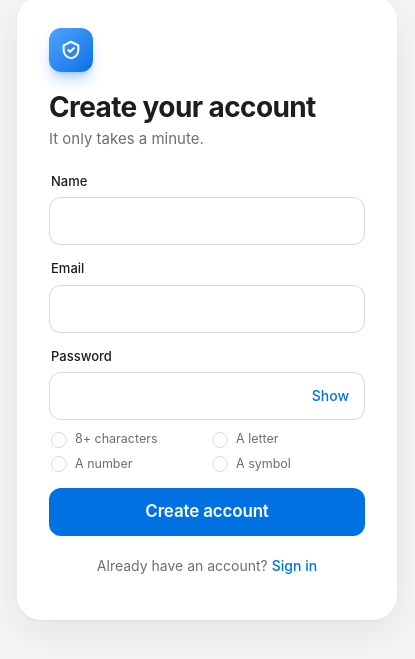
Test: SignUpPage: server errors › 409 puts the message on the email field, keeps values and focuses the email
The width and height of the screenshot is (415, 659).
Type "  Ada  " into the field labelled "Name" at (207, 221), box [49,197,365,245]
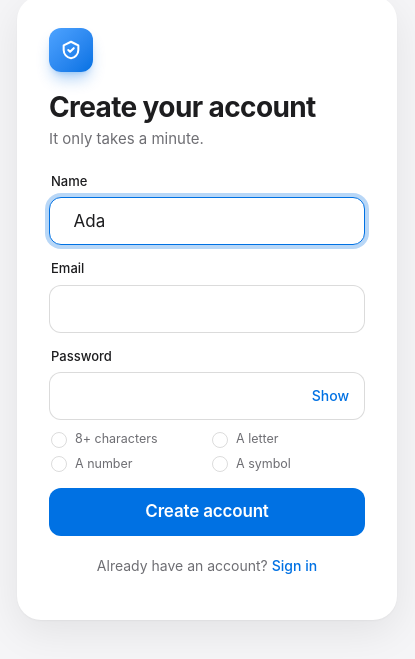
Type "Ada@Example.com" into the field labelled "Email" at (207, 309), box [49,285,365,333]
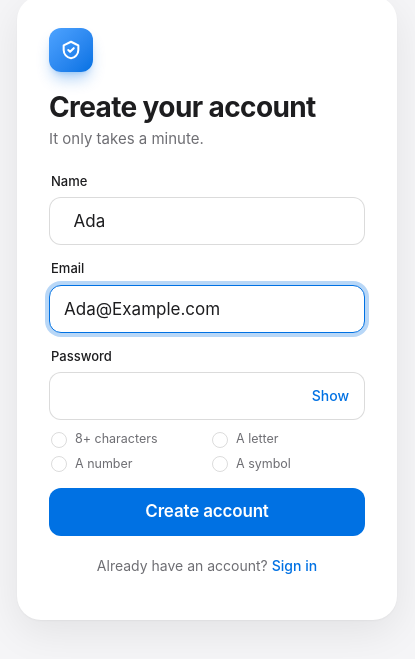
Type "Abcdef1!" into the password field labelled "Password" at (207, 396), box [49,372,365,420]
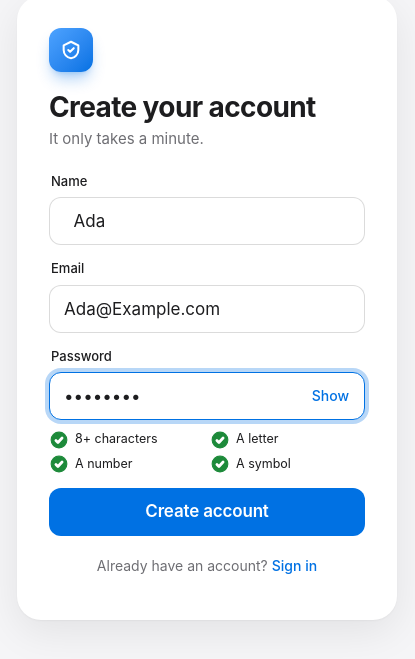
Click the button "Create account" at (207, 512), box [49,488,365,536]
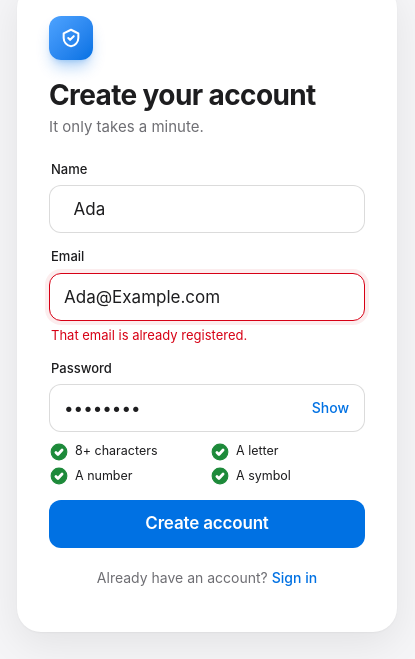
Now the text "That email is already registered." is shown, box [51,327,247,343]
